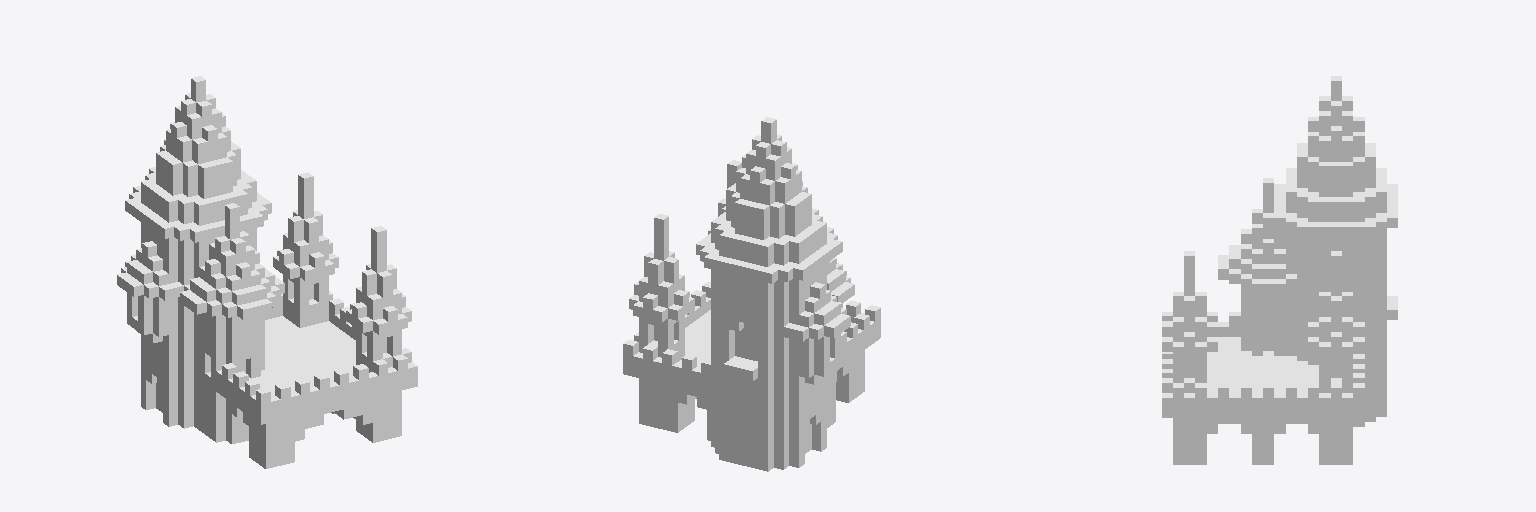
File: WaterCastle.obj
3 renders of one model, left to right at view 1: azimuth 30°, elevation 25°; view 2: azimuth 150°, elevation 25°; view 3: azimuth 270°, elevation 25°, orthographic.
Parts seen in each view (by area): view 1: object 1; view 2: object 1; view 3: object 1.
Boxes of the visible parts, <box> form: object 1: <box>117,76,417,468</box>; object 1: <box>623,117,880,471</box>; object 1: <box>1162,76,1397,464</box>.
Size of the model in its own units: 2.1 by 3.2 by 2.1.